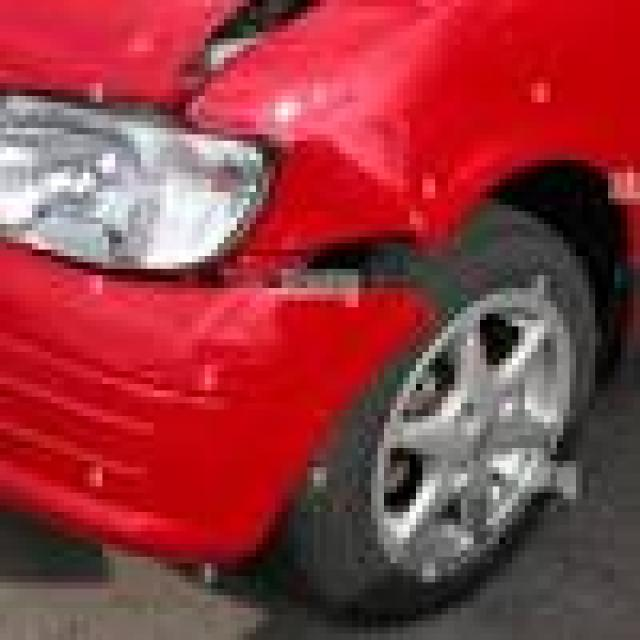minor: (106, 7, 440, 397)
